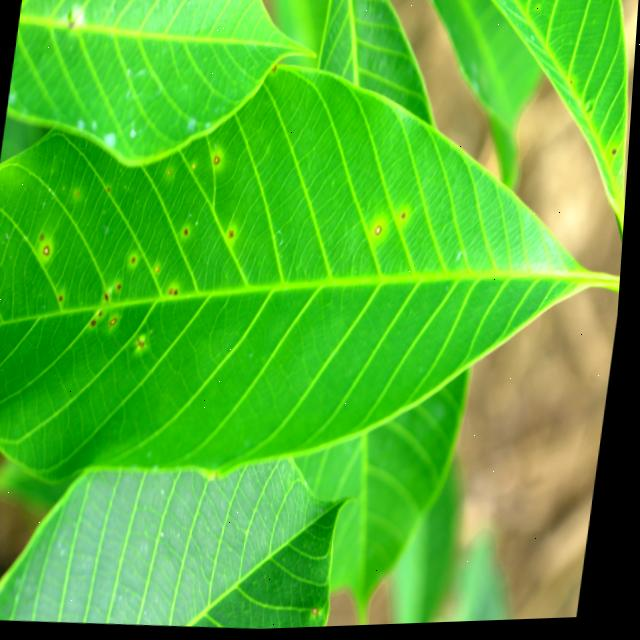Colletotrichum: (377, 228, 385, 238), (46, 246, 53, 256), (114, 319, 121, 326), (216, 158, 221, 165)
